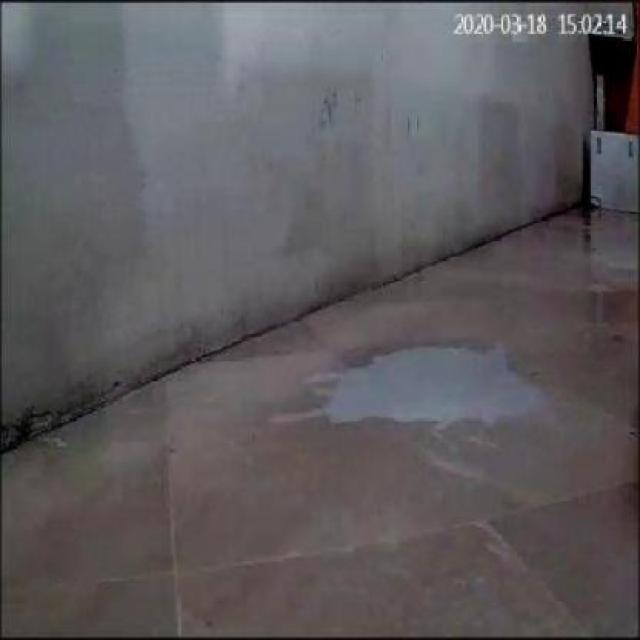spillage: (282, 338, 555, 430)
